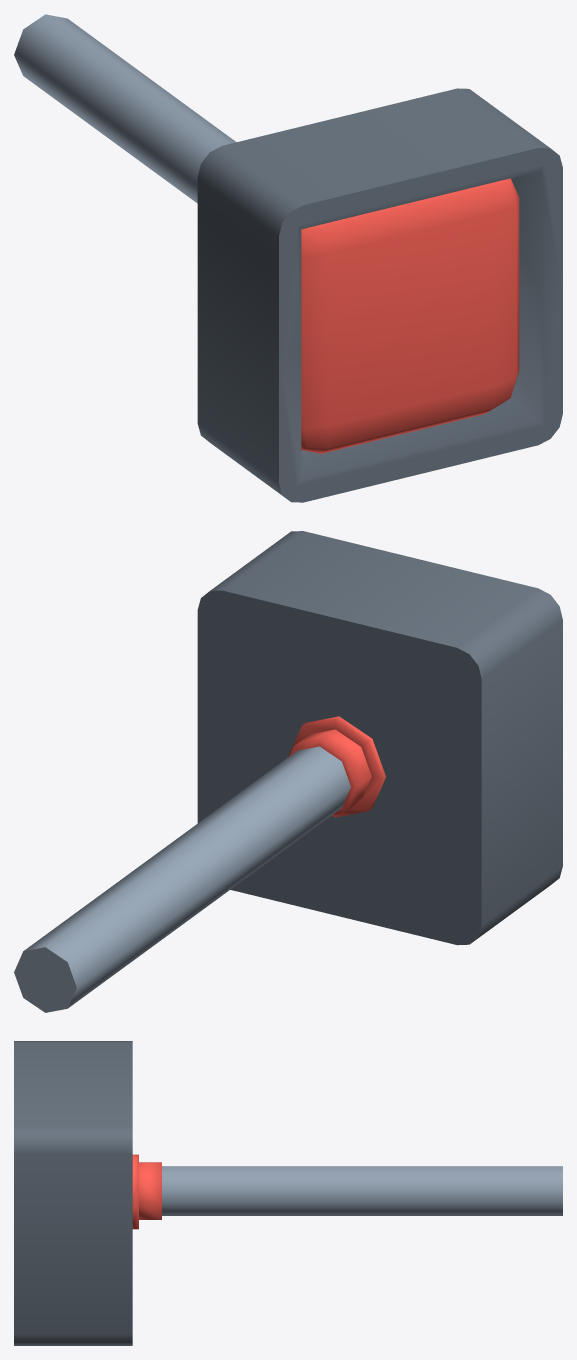
File: Wall01.fbx
3 renders of one model, top to bottom at view 1: azimuth 30°, elevation 25°; view 2: azimuth 150°, elevation 25°; view 3: azimuth 270°, elevation 25°, orthographic. The views are drawn at different scales.
Visible parts, largest first — view 1: Wall_Frame, Wall; view 2: Wall_Frame, Wall; view 3: Wall_Frame, Wall.
Boxes of the visible parts, box(x1,y1,x2,y2) form: Wall_Frame: box(197, 88, 562, 502); Wall: box(14, 14, 519, 453); Wall_Frame: box(197, 531, 562, 945); Wall: box(14, 746, 350, 1012); Wall_Frame: box(14, 1041, 161, 1345); Wall: box(162, 1166, 562, 1215).
Bounding box in the file's own units: 200 × 200 × 458.
